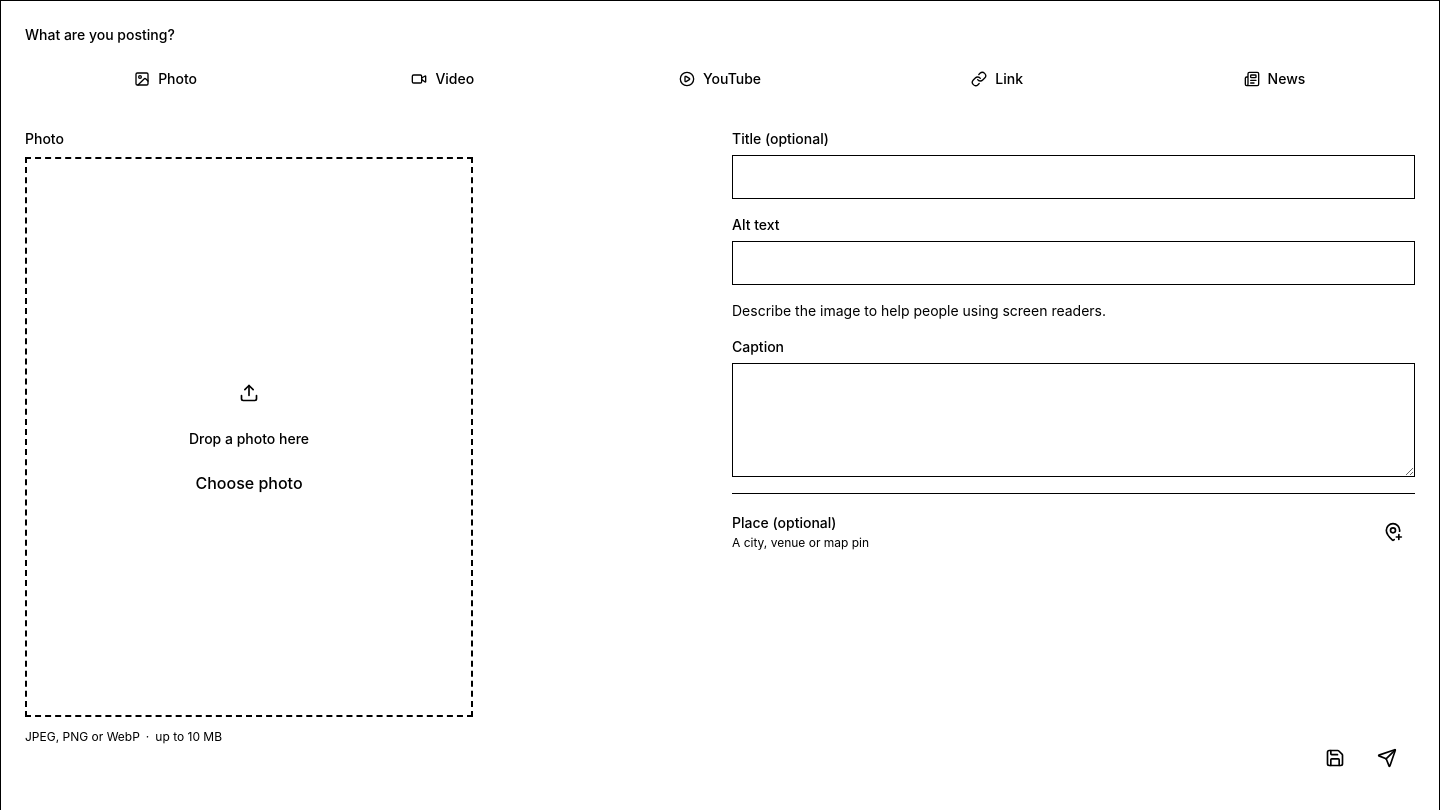
it: PostForm create › BH-6: Given edited automatic title, should preserve it across URLs
Click the radio button labelled "Link" at (997,78), box [971,70,1023,87]
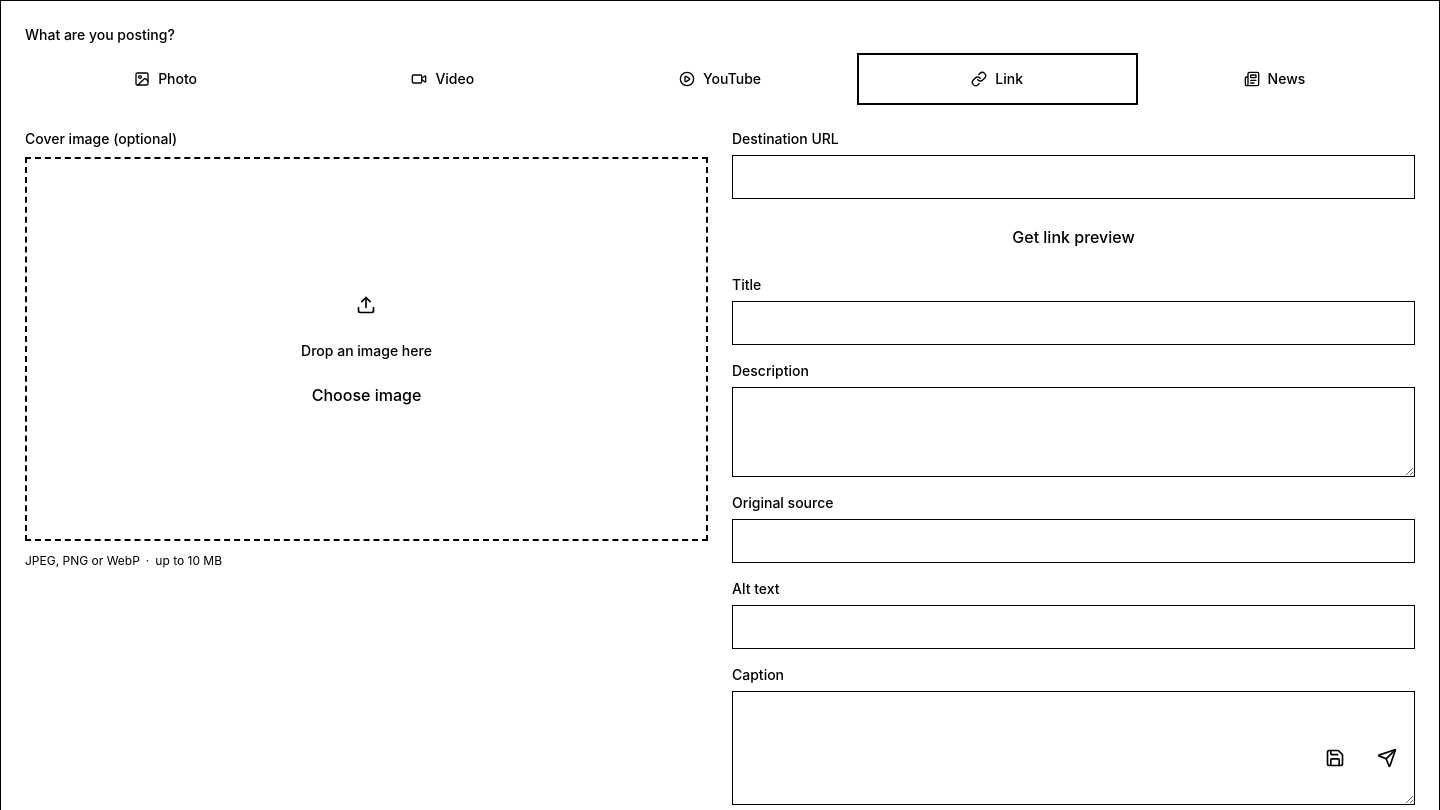
Type "https://first.test/article" into the field labelled "Destination URL" at (1074,177), box [732,155,1415,199]
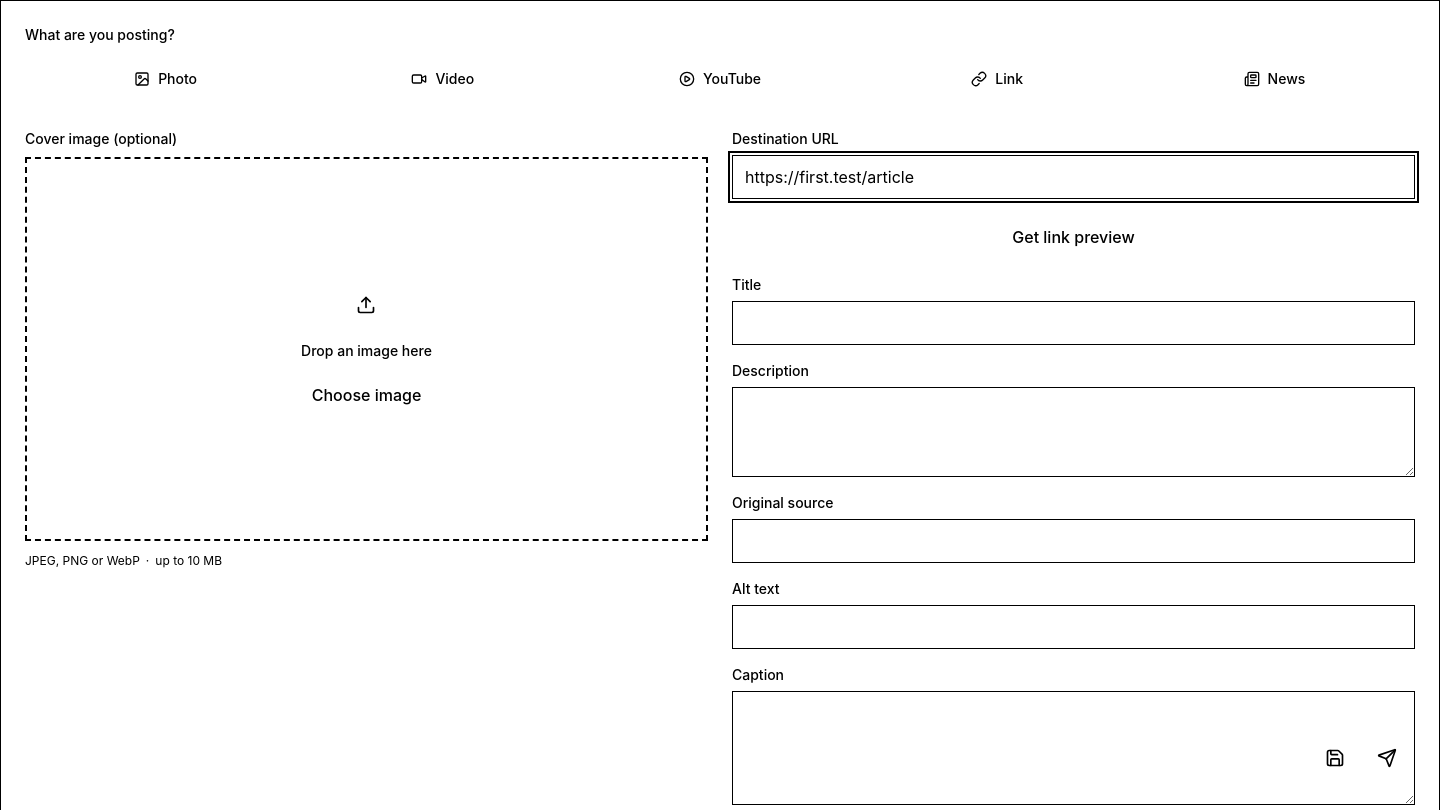
Click the button "Get link preview" at (1074,237), box [732,215,1415,259]
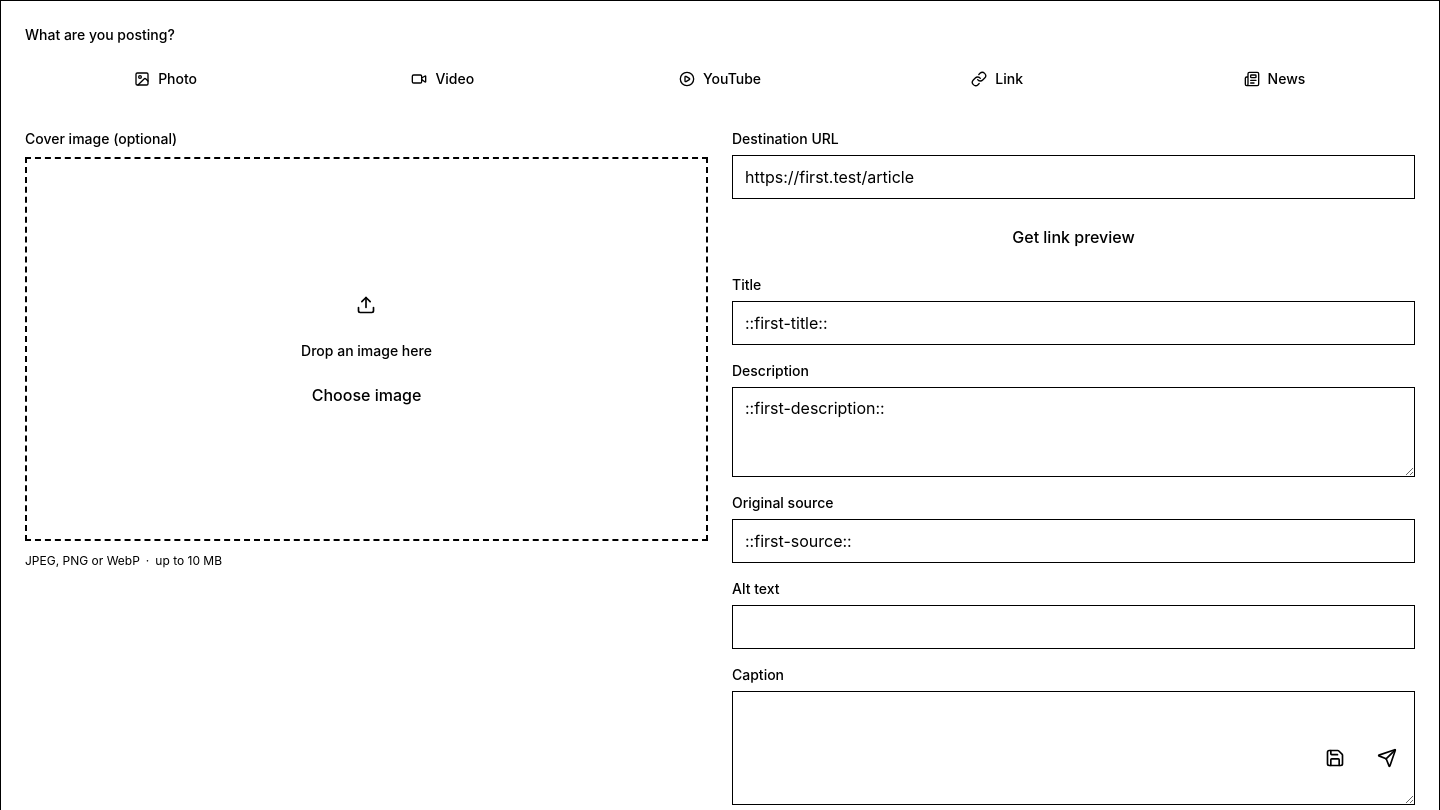
Now the field labelled "Title" holds "::first-title::"
Replace the text in the field labelled "Title" with "::manual-title::" at (1074,323), box [732,301,1415,345]
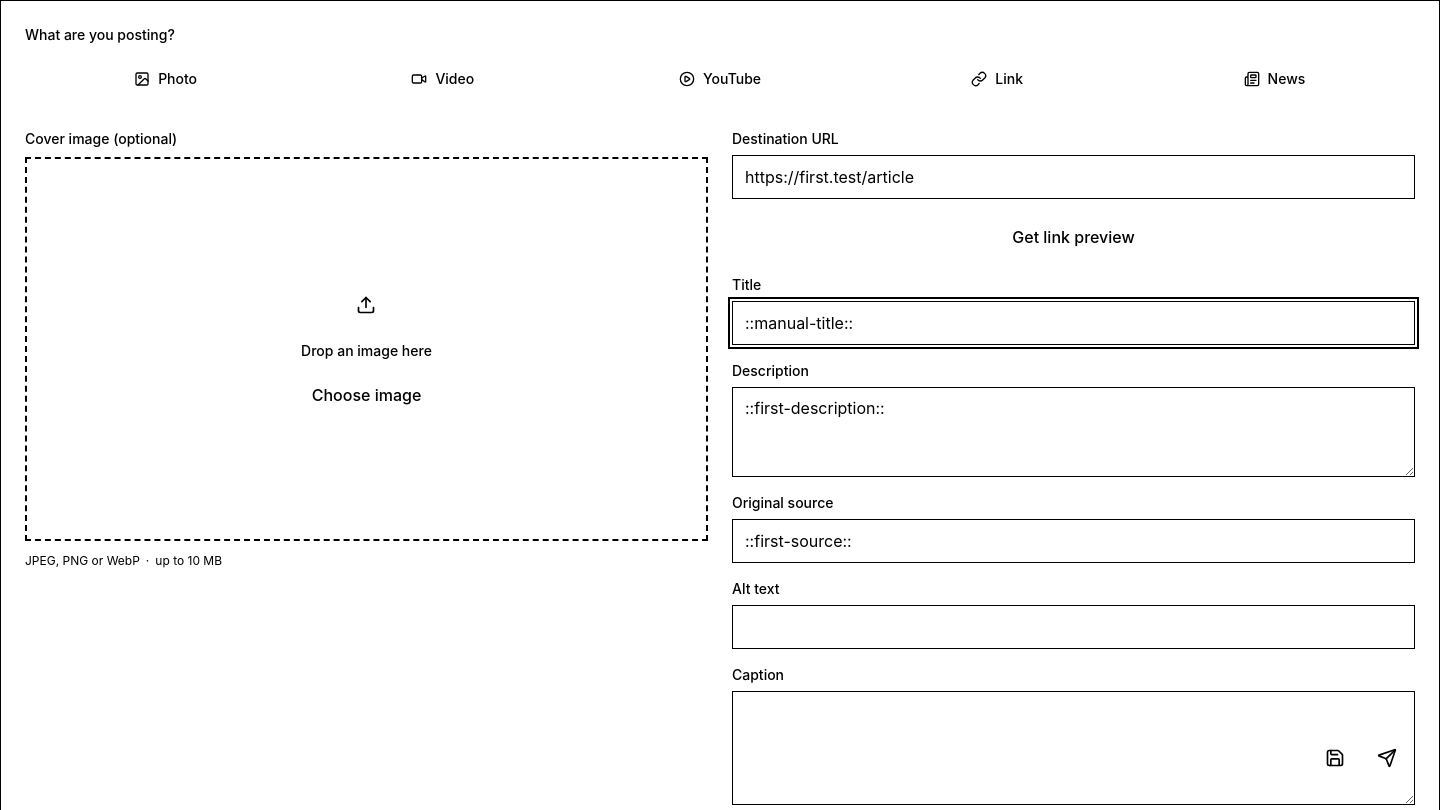
Replace the text in the field labelled "Destination URL" with "https://second.test/article" at (1074,177), box [732,155,1415,199]
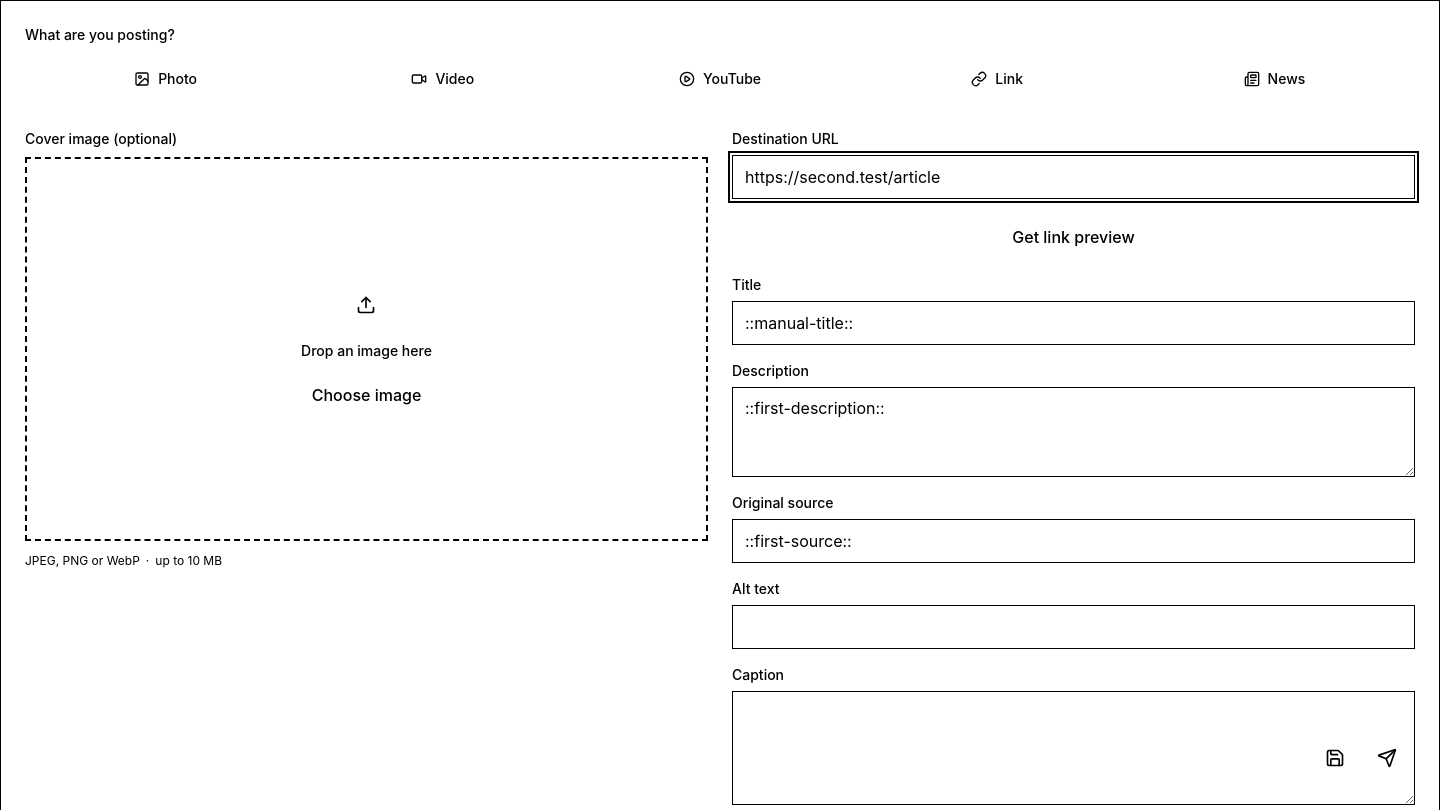
Click the button "Get link preview" at (1074,237), box [732,215,1415,259]
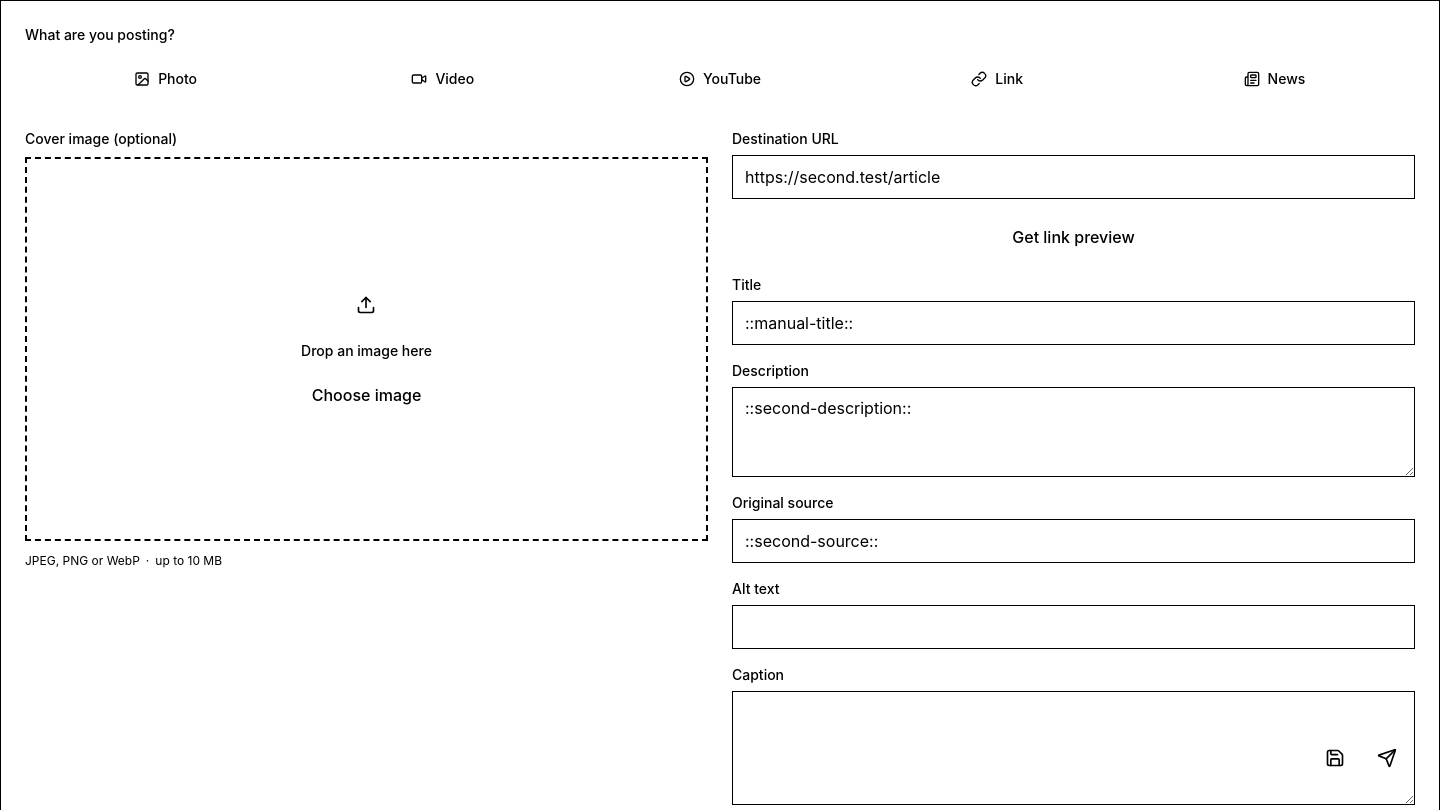
Now the text box labelled "Description" holds "::second-description::", box [732,387,1415,477]
Now the field labelled "Original source" holds "::second-source::", box [732,519,1415,563]
